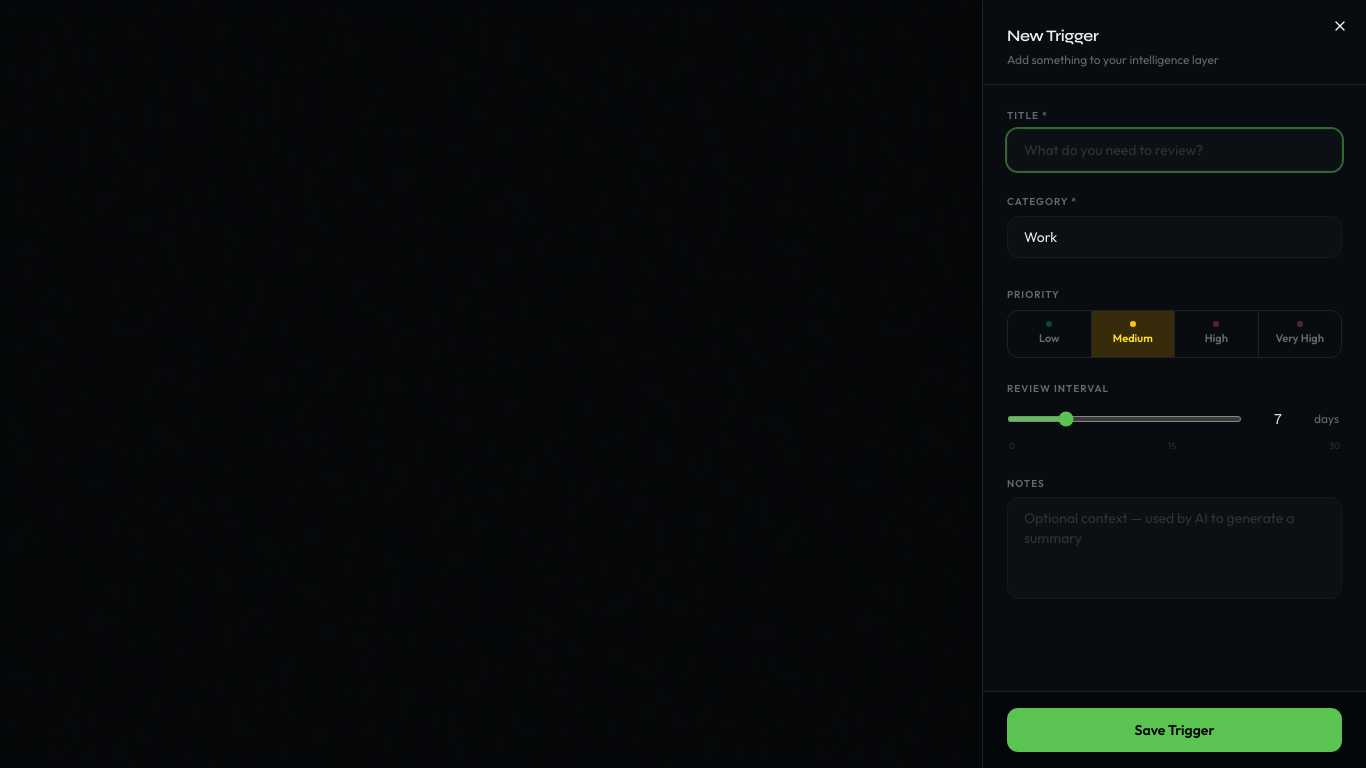
QuickAddForm › asks to create a new category when the typed category is unknown
Type "Follow up" into the field labelled "Title *" at (1174, 150), box [1007, 129, 1342, 171]
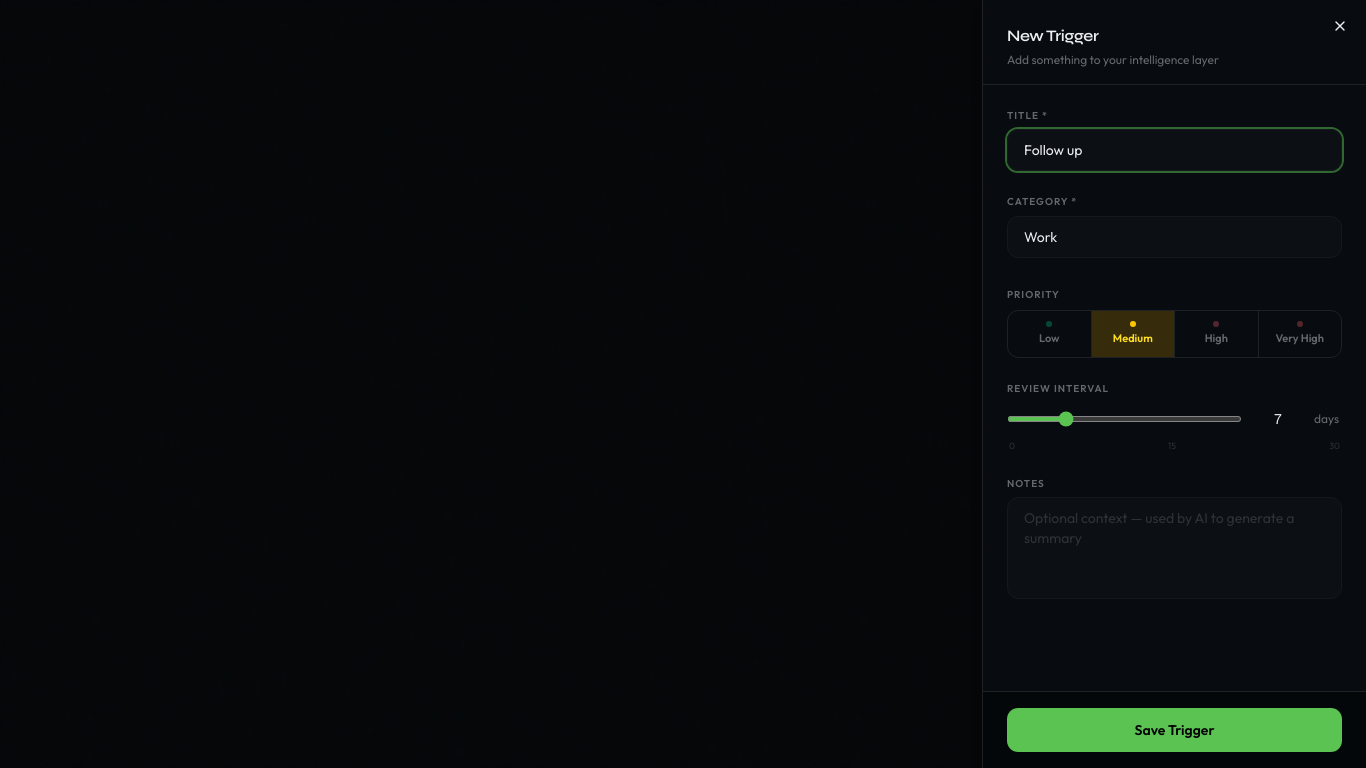
Replace the text in the field labelled "Category *" with "Errands" at (1174, 237), box [1007, 216, 1342, 258]
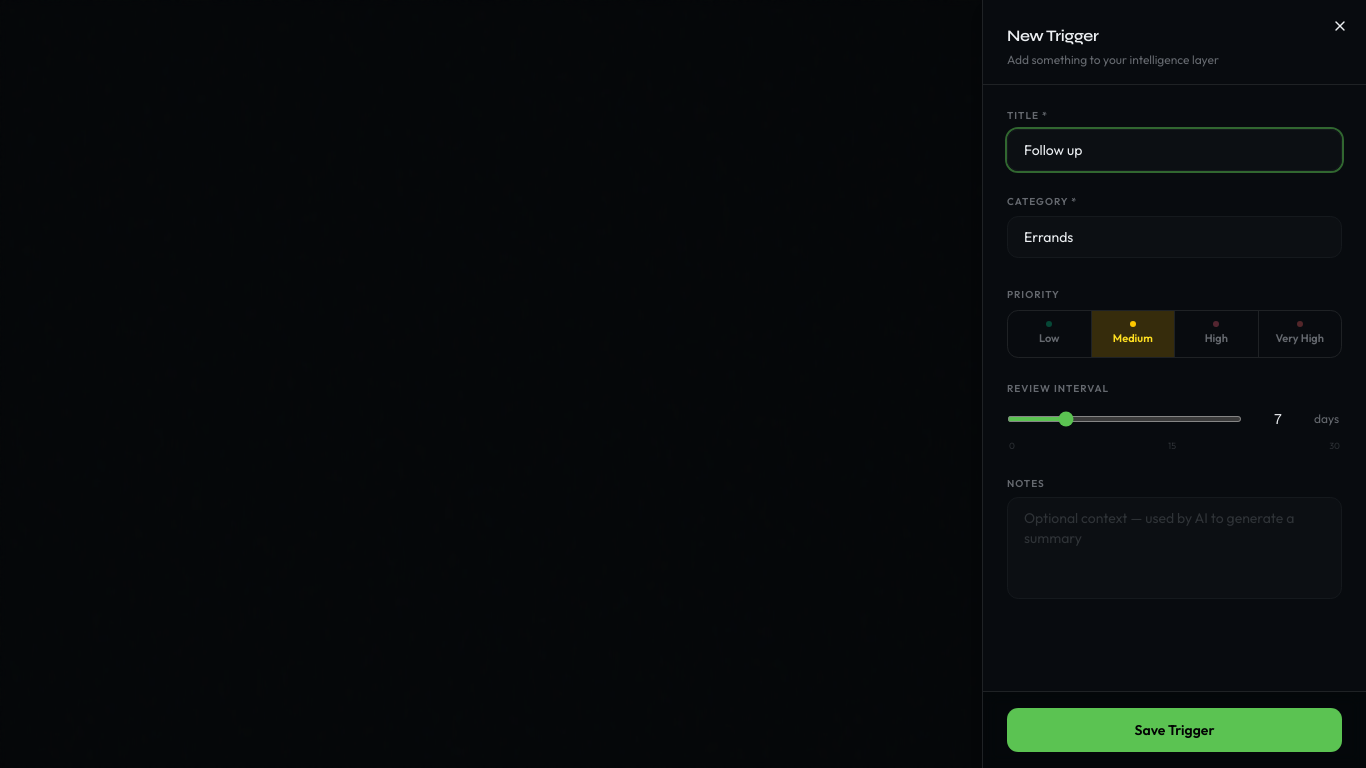
Click the button "Save Trigger" at (1174, 730), box [1007, 708, 1342, 752]
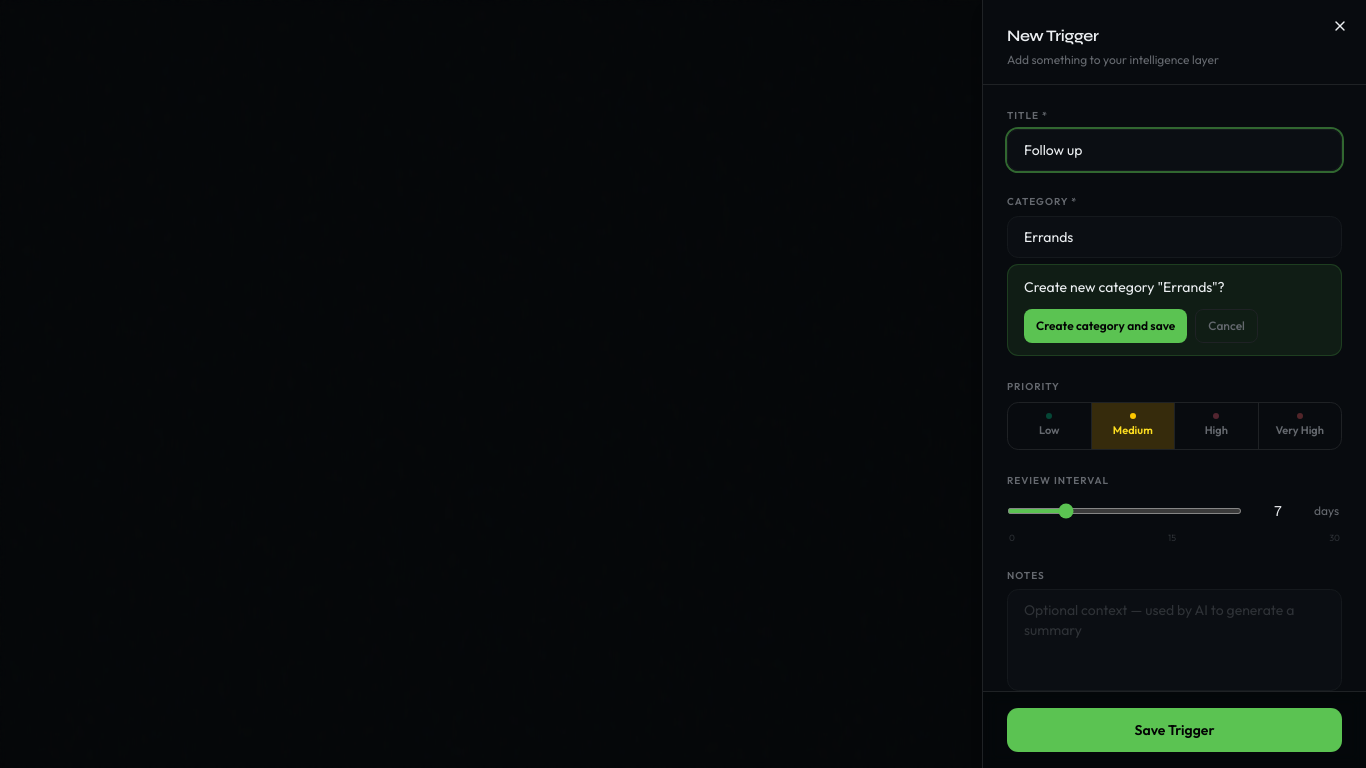
Expected: the button "Create category and save" is shown, [1024, 309, 1187, 343]
Expected: the text "Create new category \"Errands\"?" is shown, [1024, 278, 1225, 296]
